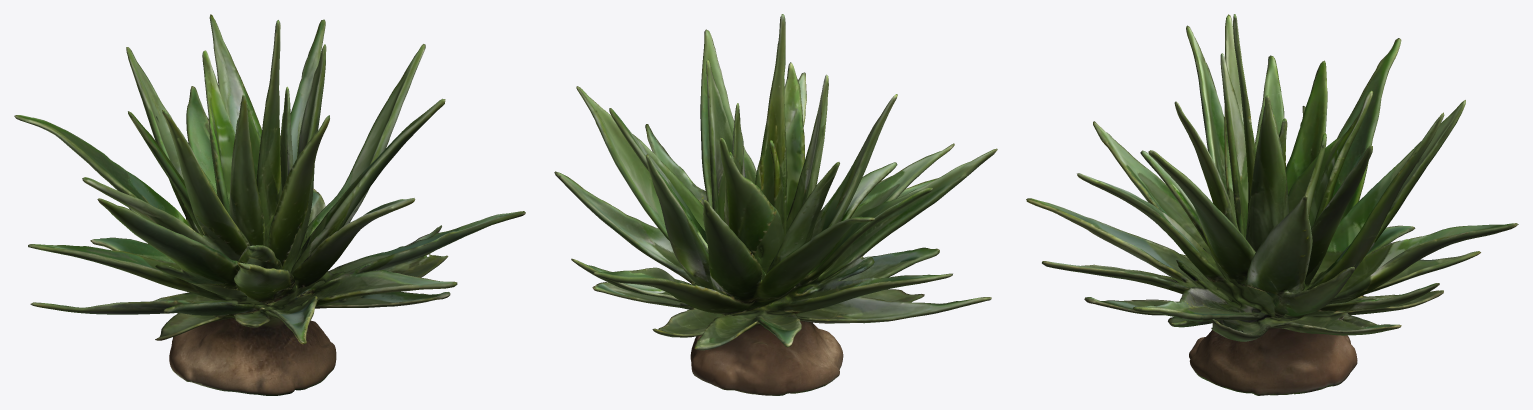
Rendered from AloeVera.glb.
3 renders of one model, left to right at view 1: azimuth 30°, elevation 25°; view 2: azimuth 150°, elevation 25°; view 3: azimuth 270°, elevation 25°, orthographic. The views are drawn at different scales.
Bounding box in the file's own units: 2 × 1.57 × 2.
Materials: 1 (1 with a texture image).
